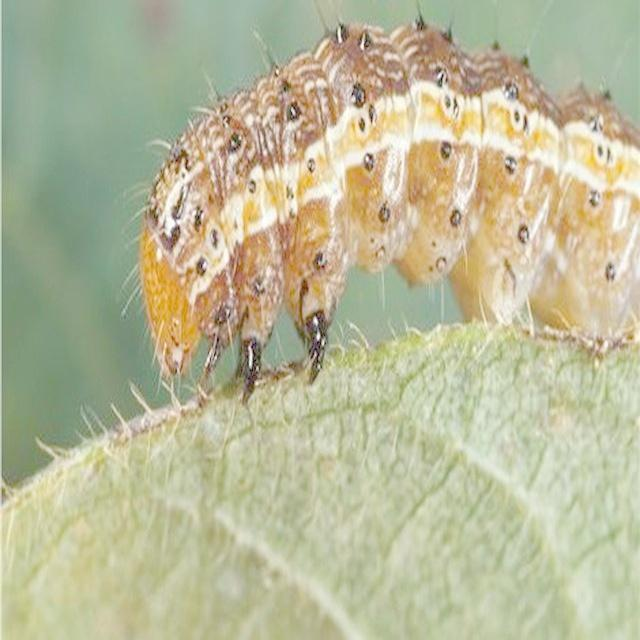Plaga: (124, 16, 640, 368)
